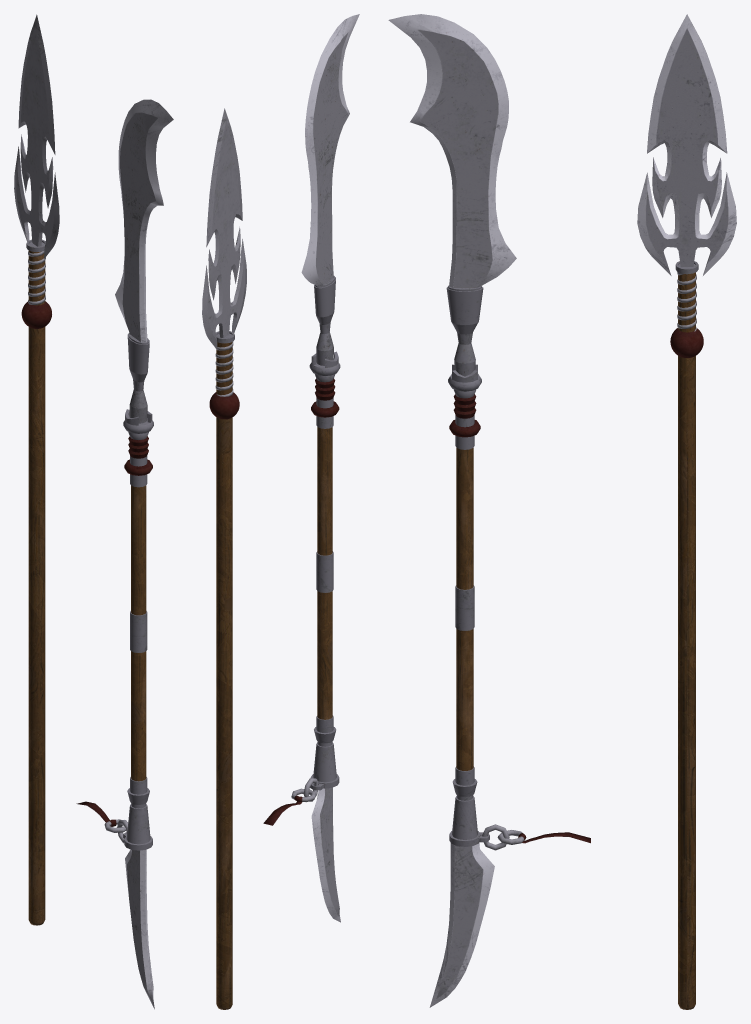
The model's file is glaive.glb.
3 views of the same model, side by side, from view 1: azimuth 30°, elevation 25°; view 2: azimuth 150°, elevation 25°; view 3: azimuth 270°, elevation 25° (orthographic). The views are drawn at different scales.
Parts seen in each view (by area): view 1: Circle, Circle.003; view 2: Circle, Circle.003; view 3: Circle, Circle.003.
Part boxes in pixels (bbox=[...]): Circle: bbox=[76, 99, 173, 1009]; Circle.003: bbox=[14, 14, 59, 925]; Circle: bbox=[263, 14, 359, 922]; Circle.003: bbox=[202, 108, 246, 1009]; Circle: bbox=[388, 14, 590, 1007]; Circle.003: bbox=[637, 14, 736, 1009].
Bounding box in the file's own units: 8.04 × 261 × 83.05.
2 materials, 2 textured.
